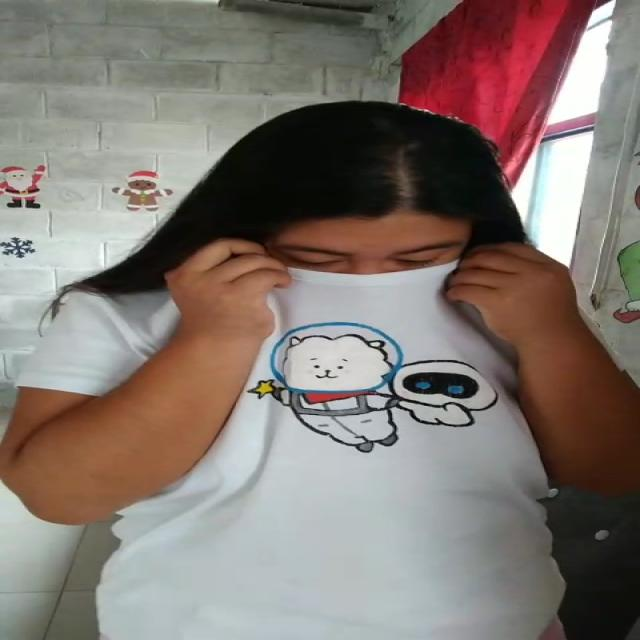8_ropa_rostro: (164, 239, 562, 414)
